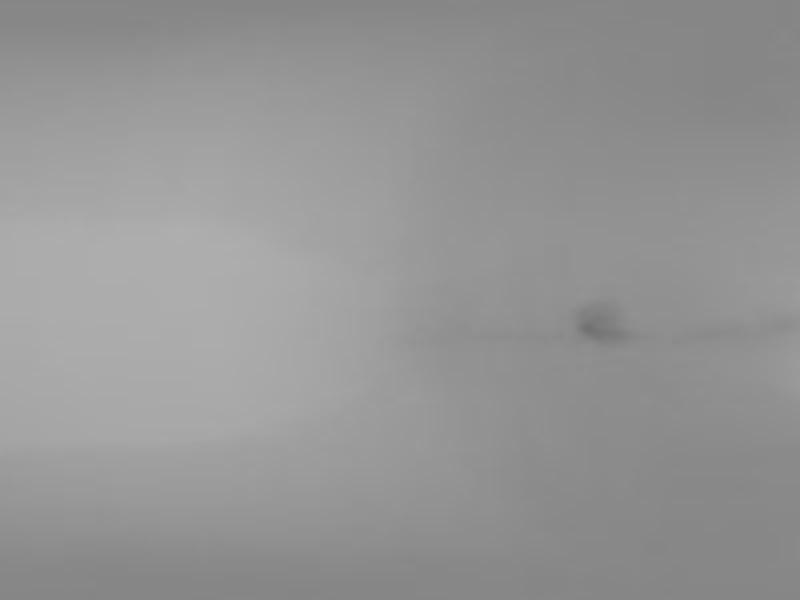defect: (574, 294, 630, 340)
